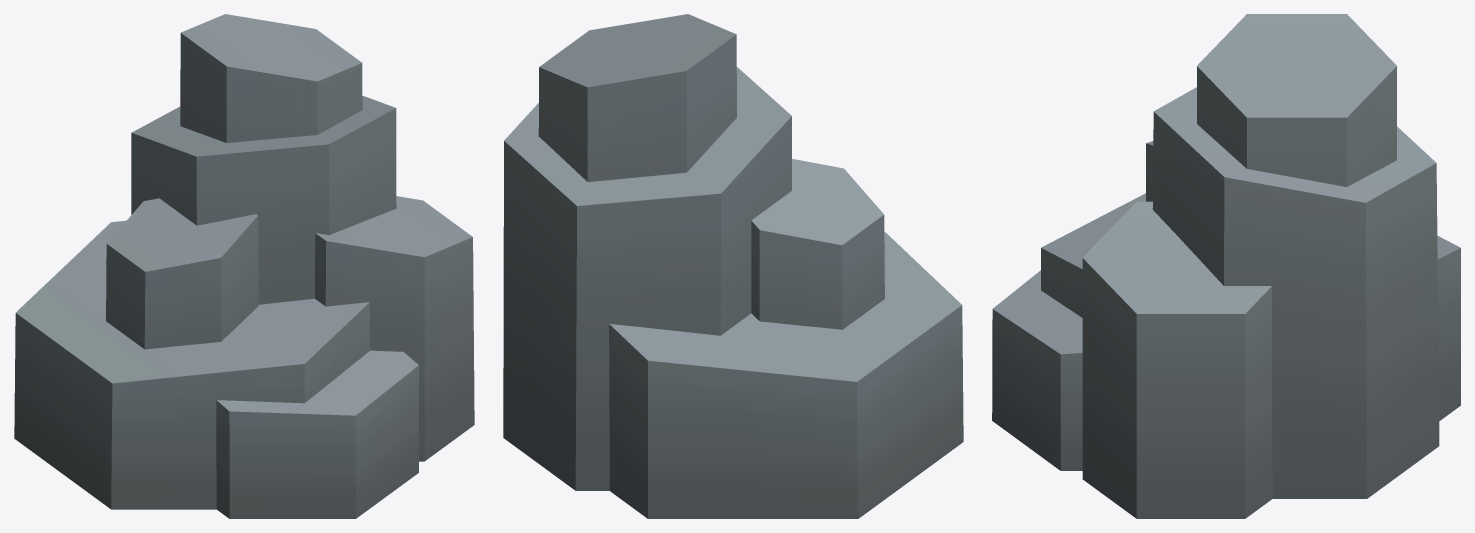
File: kay-montanha-b.gltf
3 renders of one model, left to right at view 1: azimuth 30°, elevation 25°; view 2: azimuth 150°, elevation 25°; view 3: azimuth 270°, elevation 25°, orthographic. The views are drawn at different scales.
Parts seen in each view (by area): view 1: mountain_B; view 2: mountain_B; view 3: mountain_B.
Boxes of the visible parts, bbox=[...] form: mountain_B: bbox=[14, 14, 474, 518]; mountain_B: bbox=[503, 14, 963, 518]; mountain_B: bbox=[992, 14, 1460, 518].
Size of the model in its own units: 9.01 by 8.85 by 9.38.
Materials: 1 (1 with a texture image).
